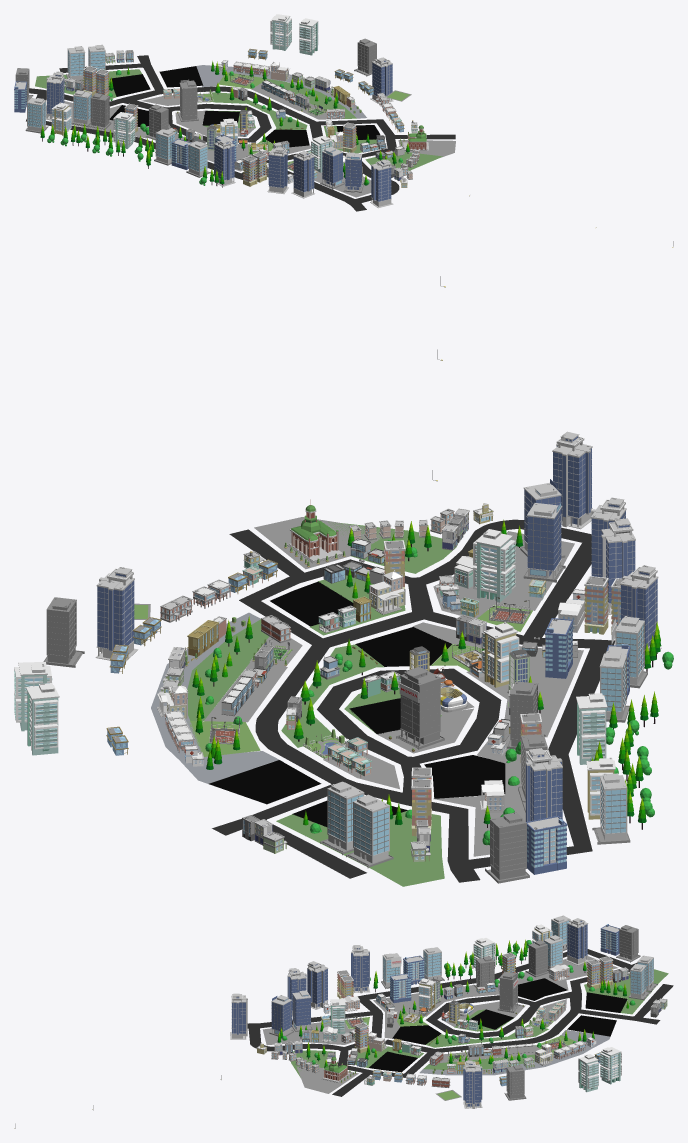
File: city03.fbx
The picture shows the model from 3 angles, top to bottom: view 1: azimuth 30°, elevation 25°; view 2: azimuth 150°, elevation 25°; view 3: azimuth 270°, elevation 25°; orthographic projection. The views are drawn at different scales.
Visible parts, largest first — view 1: bench.002; view 2: bench.002; view 3: bench.002.
Boxes of the visible parts, x1,y1,x2,y2 form: bench.002: [14, 14, 673, 247]; bench.002: [14, 276, 673, 886]; bench.002: [14, 915, 673, 1128].
Bounding box in the file's own units: 17384 × 2416 × 26752.
Materials: 19 (2 with a texture image).
